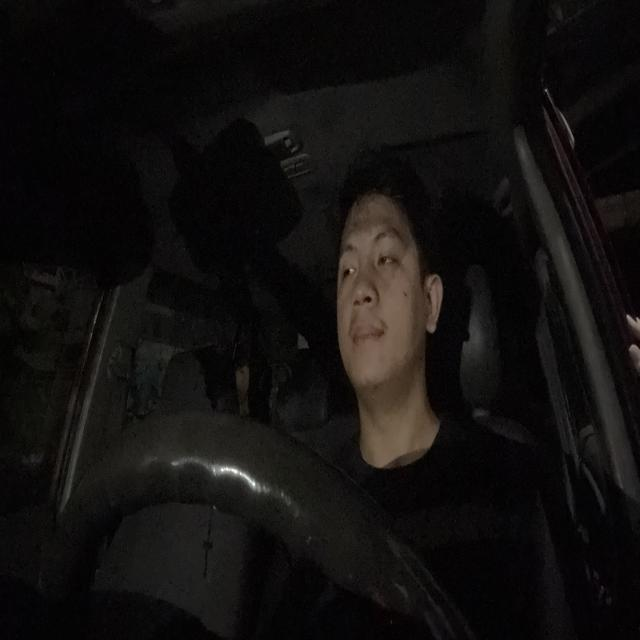open: (373, 222, 407, 274), (336, 240, 356, 288)
